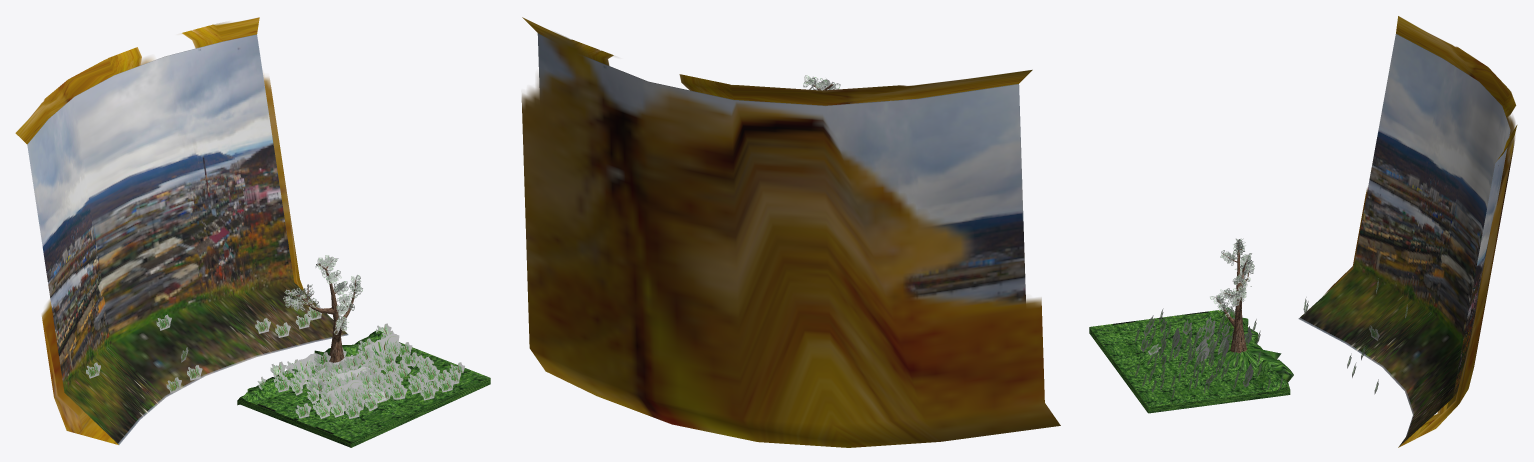
File: tree-model.glb
The picture shows the model from 3 angles, left to right: view 1: azimuth 30°, elevation 25°; view 2: azimuth 150°, elevation 25°; view 3: azimuth 270°, elevation 25°; orthographic projection. The views are drawn at different scales.
Parts seen in each view (by area): view 1: pCube2, pCube1, pCylinder26; view 2: pCube2; view 3: pCube2, pCube1, pCylinder26.
Part boxes in pixels (x1=…): pCube2: x1=15, y1=17, x2=348, y2=444; pCube1: x1=237, y1=330, x2=490, y2=447; pCylinder26: x1=291, y1=264, x2=355, y2=362; pCube2: x1=521, y1=17, x2=1060, y2=447; pCube2: x1=1298, y1=16, x2=1517, y2=447; pCube1: x1=1089, y1=307, x2=1293, y2=413; pCylinder26: x1=1215, y1=241, x2=1249, y2=353.
Bounding box in the file's own units: 0.5679 × 0.466 × 0.6286.
58 materials, 58 textured.
